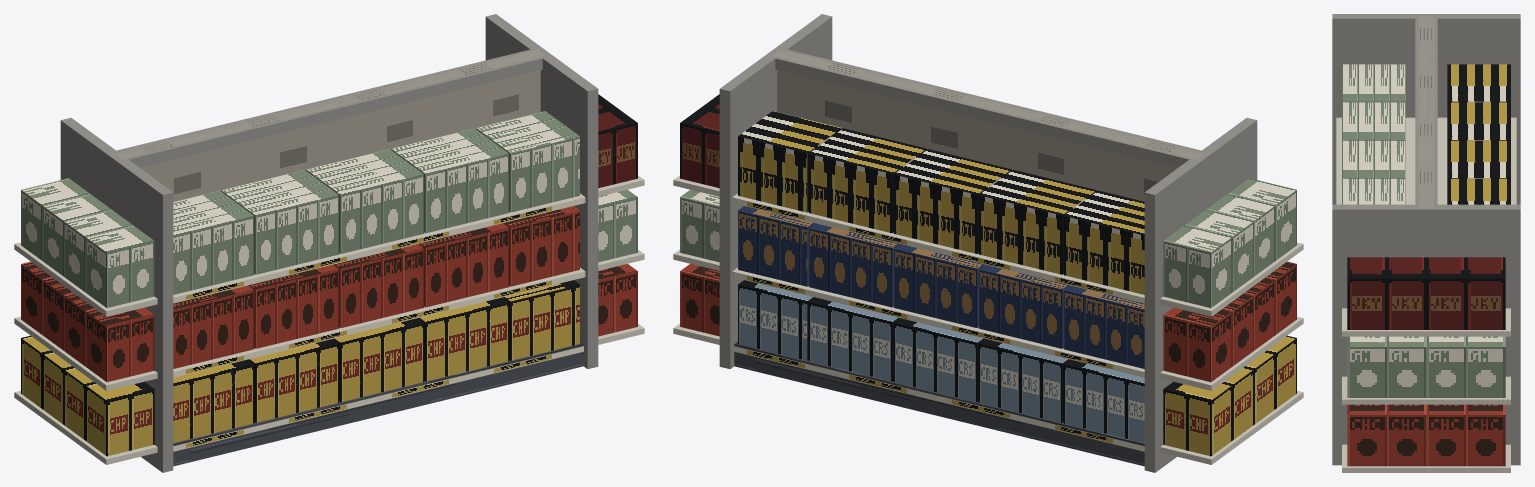
File: COM_Gondola_Snacks.glb
3 renders of one model, left to right at view 1: azimuth 30°, elevation 25°; view 2: azimuth 150°, elevation 25°; view 3: azimuth 270°, elevation 25°, orthographic. The views are drawn at different scales.
Parts seen in each view (by area): view 1: COM_Gondola_Snacks_Mesh; view 2: COM_Gondola_Snacks_Mesh; view 3: COM_Gondola_Snacks_Mesh.
Part boxes in pixels (x1,y1,x2,y2): COM_Gondola_Snacks_Mesh: [14, 14, 644, 472]; COM_Gondola_Snacks_Mesh: [673, 14, 1303, 472]; COM_Gondola_Snacks_Mesh: [1332, 14, 1520, 472].
Size of what is drawn, in the model's own units: 3.04 by 1.5 by 1.
1 material, 1 textured.
